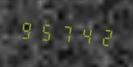five: (37, 17, 55, 45)
four: (75, 20, 93, 49)
nine: (18, 15, 36, 44)
seven: (56, 19, 74, 47)
two: (94, 22, 112, 50)
